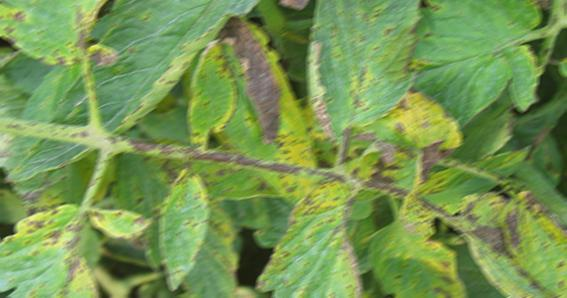Tomato leaf bacterial spot: (1, 0, 272, 177), (377, 0, 545, 135), (296, 0, 429, 154), (233, 182, 378, 298), (0, 191, 112, 298), (371, 215, 479, 298), (153, 167, 215, 295), (501, 183, 567, 298), (184, 45, 242, 152), (85, 208, 156, 246)
